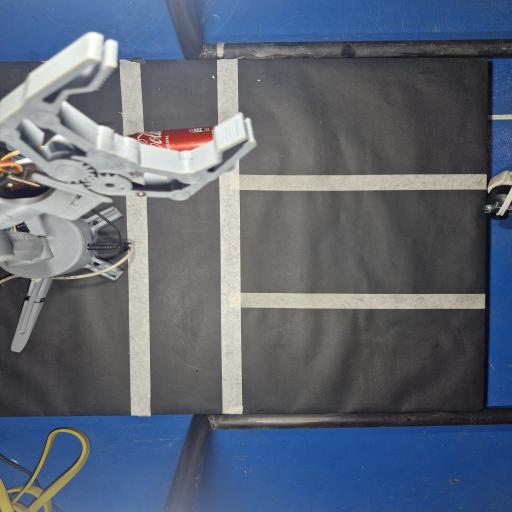lata: (129, 126, 213, 151)
